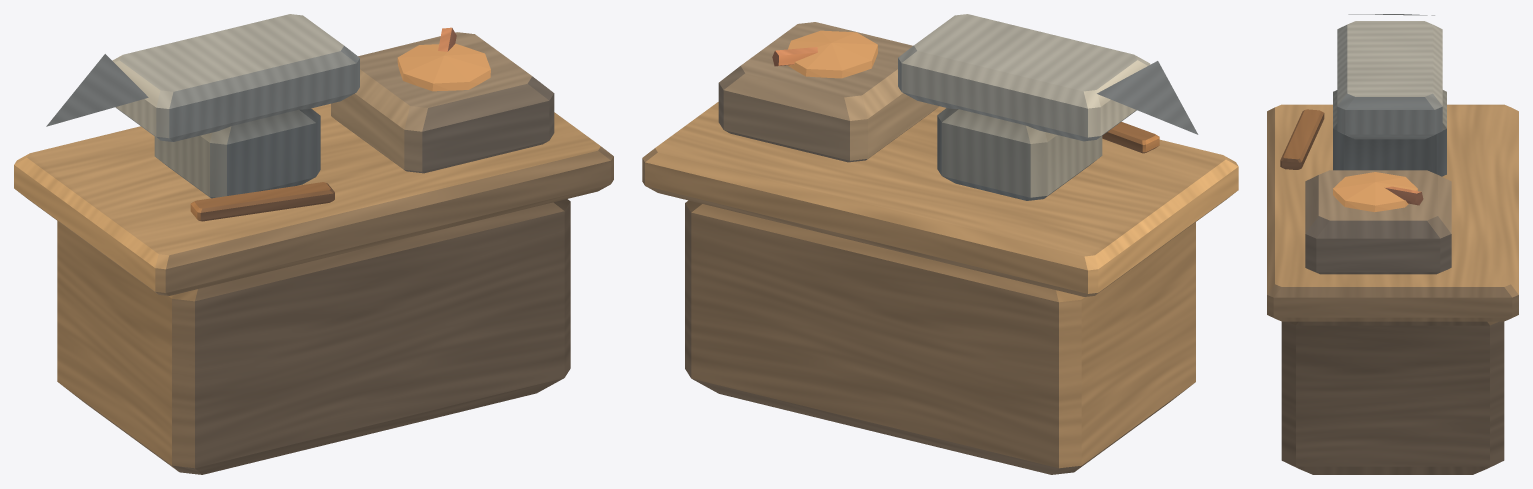
The model's file is workshop_forge.glb.
The picture shows the model from 3 angles, left to right: view 1: azimuth 30°, elevation 25°; view 2: azimuth 150°, elevation 25°; view 3: azimuth 270°, elevation 25°; orthographic projection. The views are drawn at different scales.
Parts seen in each view (by area): view 1: Schmiedetisch · Amboss und Kohlenbecken; view 2: Schmiedetisch · Amboss und Kohlenbecken; view 3: Schmiedetisch · Amboss und Kohlenbecken.
Boxes of the visible parts, left/top/right/bottom form: Schmiedetisch · Amboss und Kohlenbecken: left=14, top=14, right=613, bottom=474; Schmiedetisch · Amboss und Kohlenbecken: left=642, top=14, right=1238, bottom=474; Schmiedetisch · Amboss und Kohlenbecken: left=1267, top=14, right=1518, bottom=474.
Size of the model in its own units: 1.64 by 1.16 by 0.86.
3 materials, 2 textured.
